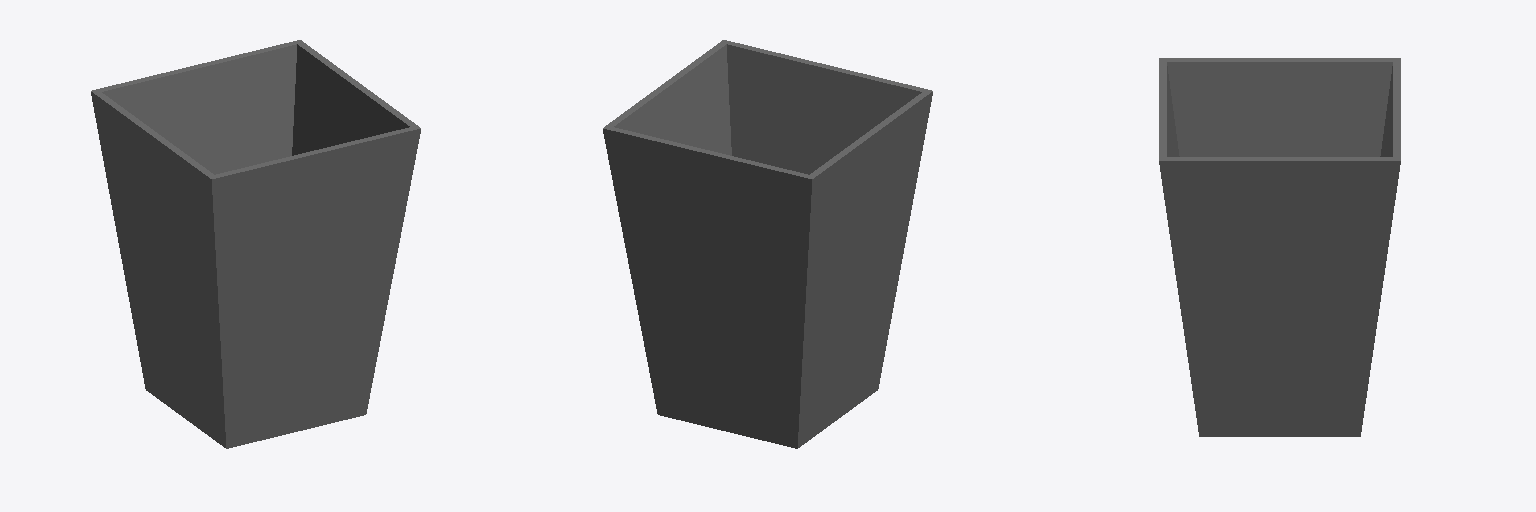
File: Trashbin.obj
3 renders of one model, left to right at view 1: azimuth 30°, elevation 25°; view 2: azimuth 150°, elevation 25°; view 3: azimuth 270°, elevation 25°, orthographic.
Parts seen in each view (by area): view 1: object_1; view 2: object_1; view 3: object_1.
Part boxes in pixels (bbox=[...]): object_1: bbox=[91, 40, 420, 448]; object_1: bbox=[603, 40, 932, 448]; object_1: bbox=[1159, 58, 1400, 436].
Size of the model in its own units: 30 by 40 by 30.